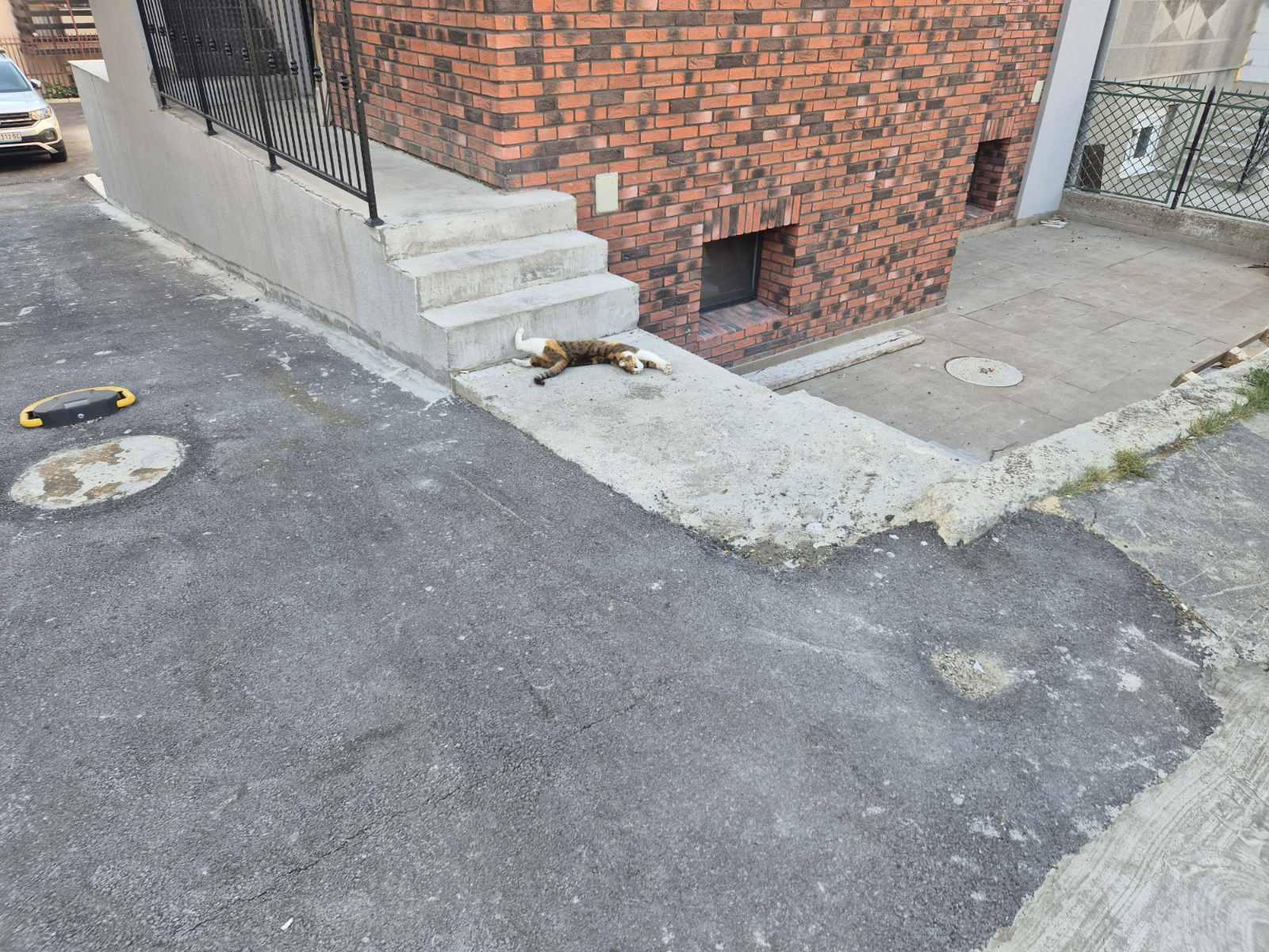macka: (512, 327, 672, 386)
